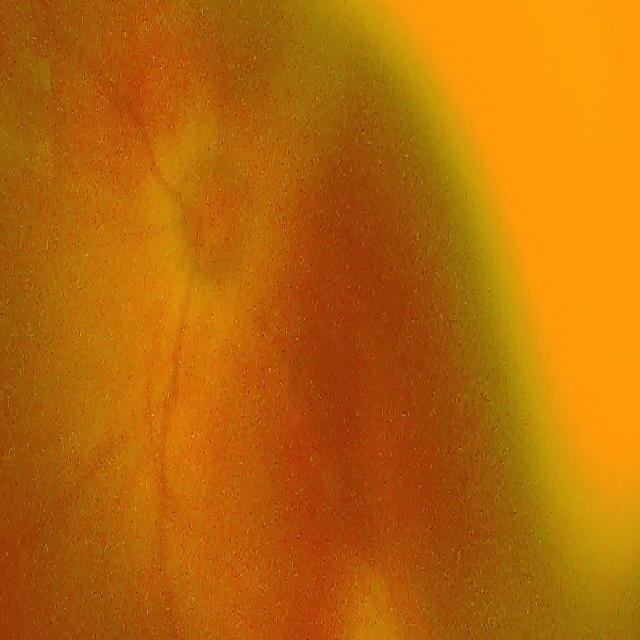optic-nerve: (162, 128, 260, 315)
